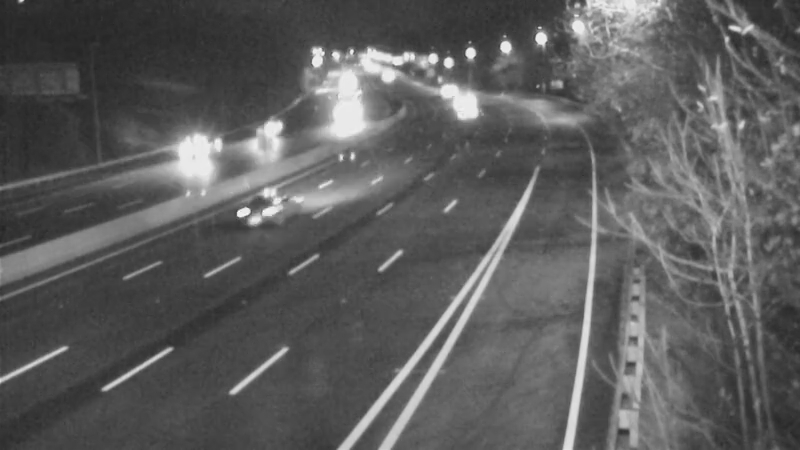vehicle: (227, 173, 307, 253), (150, 115, 230, 195), (414, 66, 464, 116), (437, 77, 487, 127), (443, 86, 493, 136), (238, 111, 288, 161), (325, 97, 375, 147)
